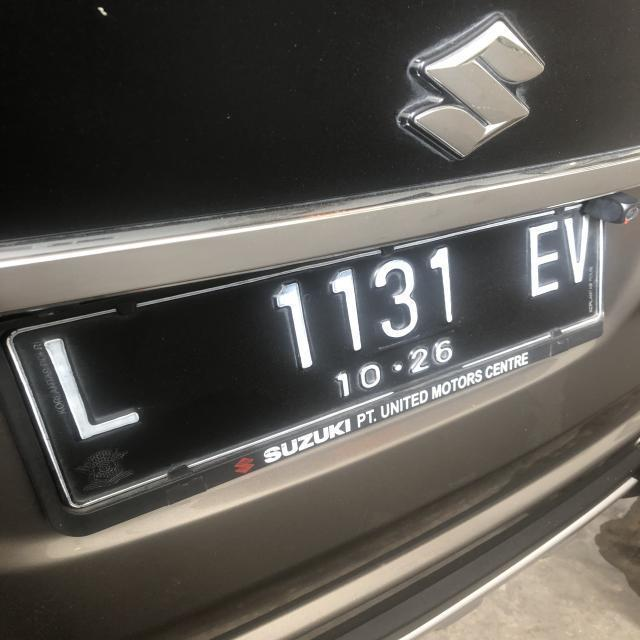1: (250, 280, 318, 374), (326, 270, 364, 352), (426, 247, 458, 324)
3: (373, 259, 418, 340)
E: (522, 220, 562, 302)
L: (37, 337, 144, 437)
V: (564, 212, 596, 284)
